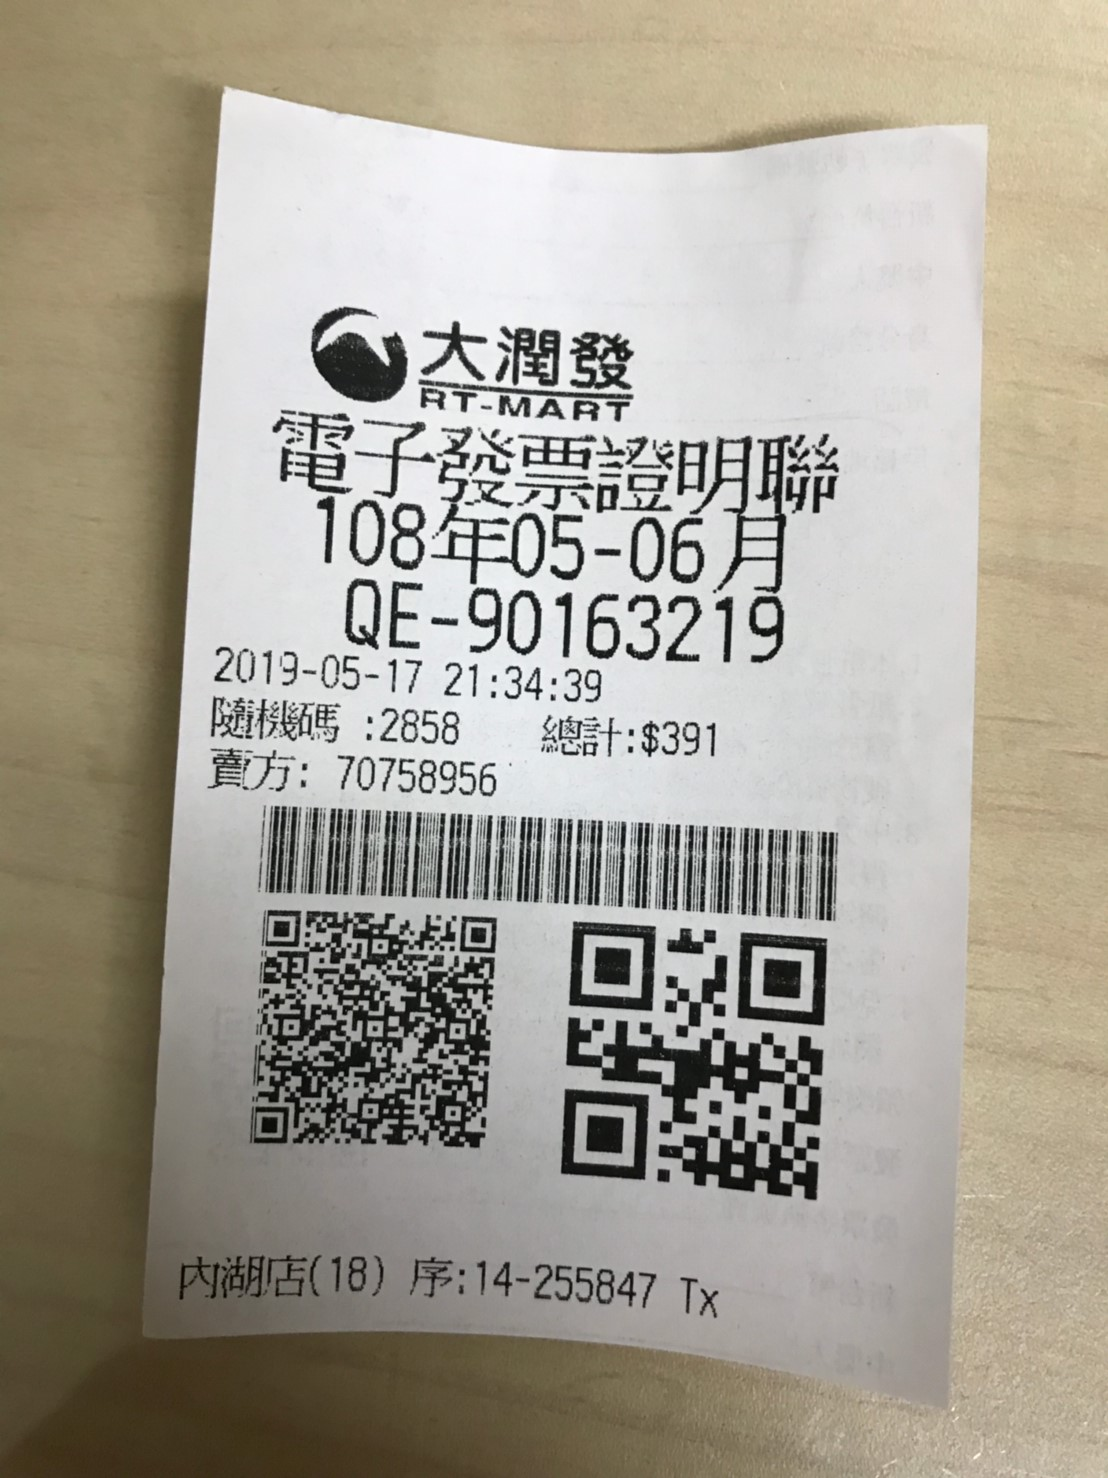Date_New: (312, 492, 789, 591)
Number_New: (463, 585, 789, 667)
